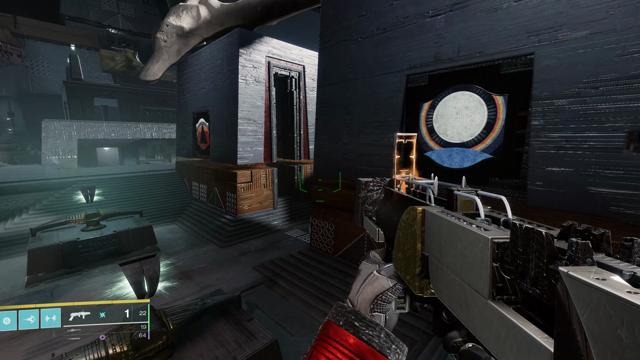pyramid: (195, 118, 210, 150)
traveler: (416, 83, 509, 168)
